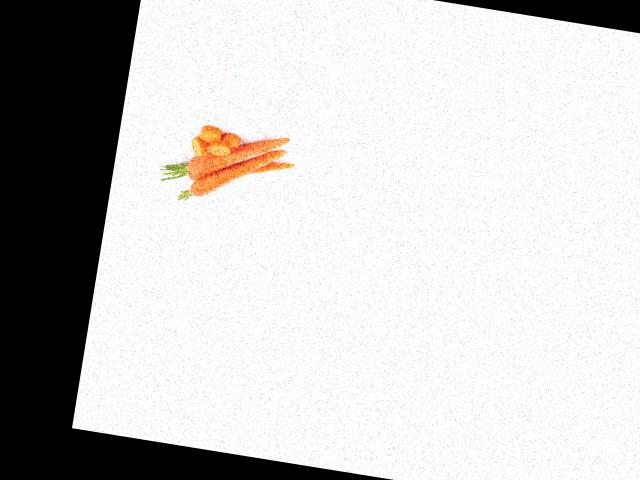carrot: (174, 120, 290, 190)
